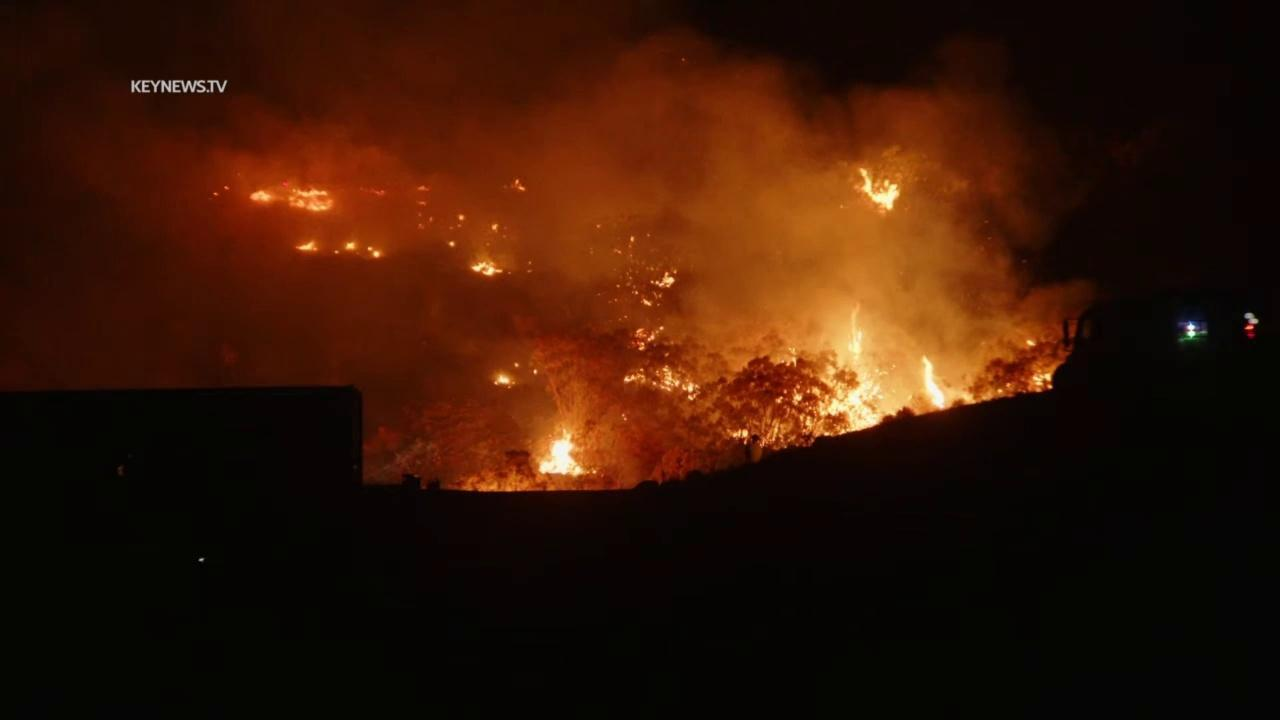fire: (773, 301, 888, 437), (247, 178, 337, 213), (537, 427, 599, 477), (623, 364, 702, 401), (857, 167, 903, 212), (919, 354, 947, 412), (634, 324, 666, 350), (470, 260, 506, 276), (1032, 368, 1054, 392), (656, 269, 677, 288), (294, 239, 318, 255), (731, 428, 752, 445), (494, 374, 515, 388), (509, 175, 526, 192), (367, 246, 383, 259), (639, 295, 652, 308), (344, 240, 358, 252), (418, 183, 431, 193), (446, 238, 458, 248), (490, 221, 500, 233), (1024, 339, 1037, 348), (416, 200, 427, 207), (532, 368, 540, 376), (458, 212, 465, 221), (627, 235, 634, 243), (212, 192, 220, 198), (223, 185, 231, 191), (428, 216, 434, 223), (514, 362, 520, 368)
smoke: (0, 0, 1099, 493)
